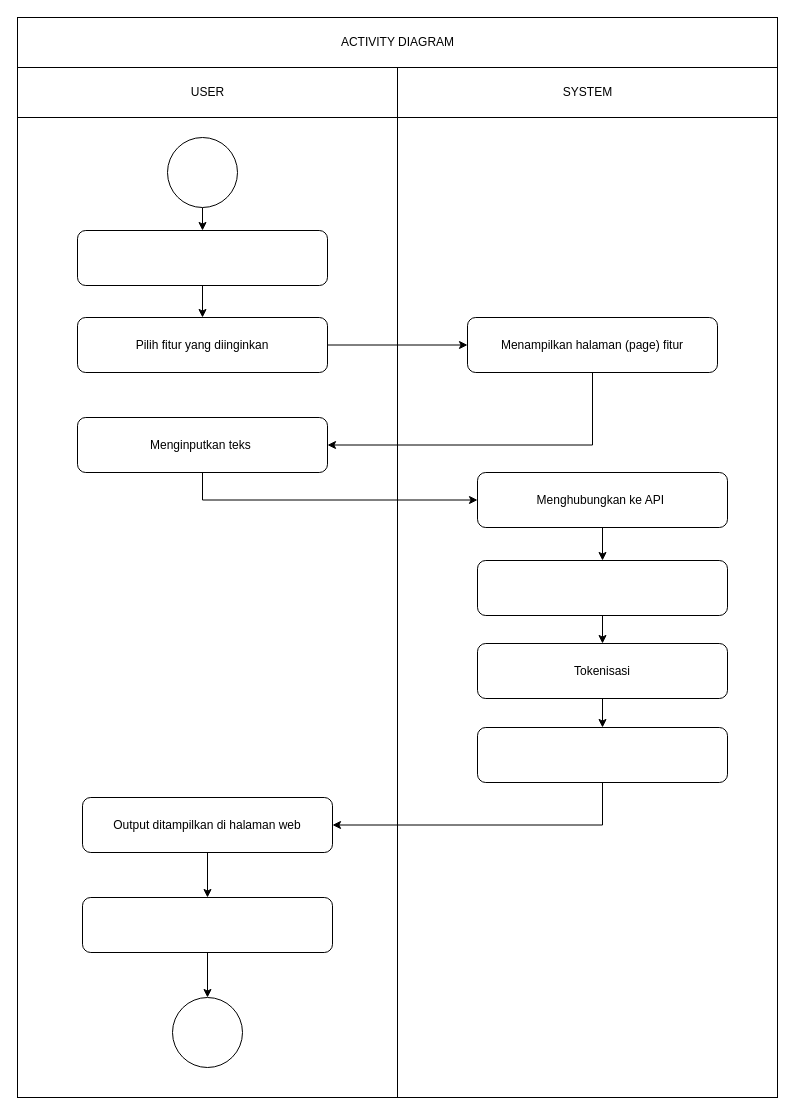
This 795x1115 diagram has some shape labels left out. The shapes that lost their labels are listed below. From the top down, each one's box as (x1, y1, x2, y2) in pixels, then its label:
(76, 230, 328, 286): Mengakses URL web / aplikasi android
(476, 560, 728, 616): Submit prompt text + teks yang diinputkan ke GPT-3
(476, 726, 728, 782): Generate teks output
(82, 896, 332, 952): Melihat, memodifikasi, dan menyimpan hasil teks output
